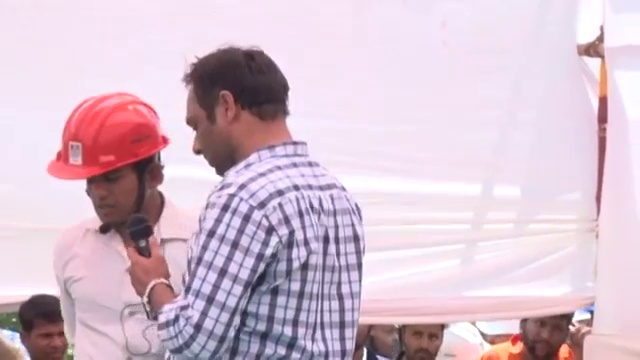helmet: (49, 92, 170, 183)
helmet_off: (183, 49, 299, 164), (16, 301, 73, 359), (518, 315, 581, 351), (399, 324, 450, 360), (360, 324, 404, 359)
helmet_on: (49, 90, 168, 234)
person: (141, 47, 366, 356), (38, 71, 192, 360), (475, 311, 582, 360)
